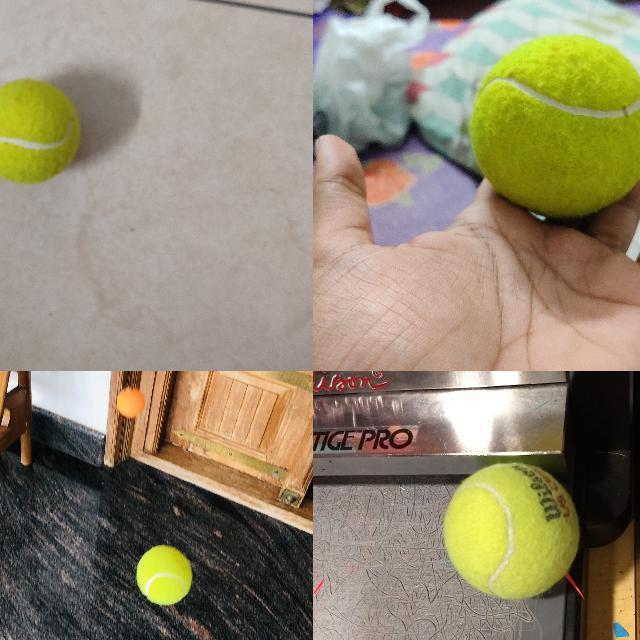tennis-ball: (468, 33, 639, 218), (442, 461, 582, 603), (0, 79, 80, 183), (137, 547, 192, 604)
